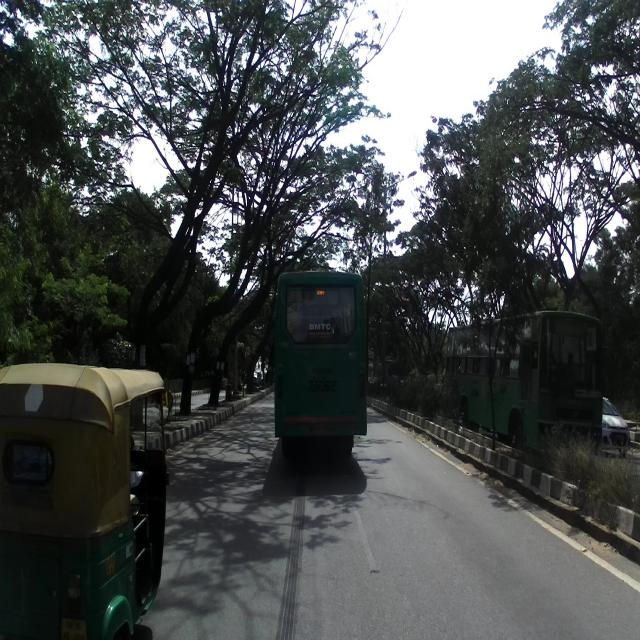autorickshaw: (0, 360, 173, 640)
bus: (446, 306, 606, 457), (272, 259, 368, 447)
